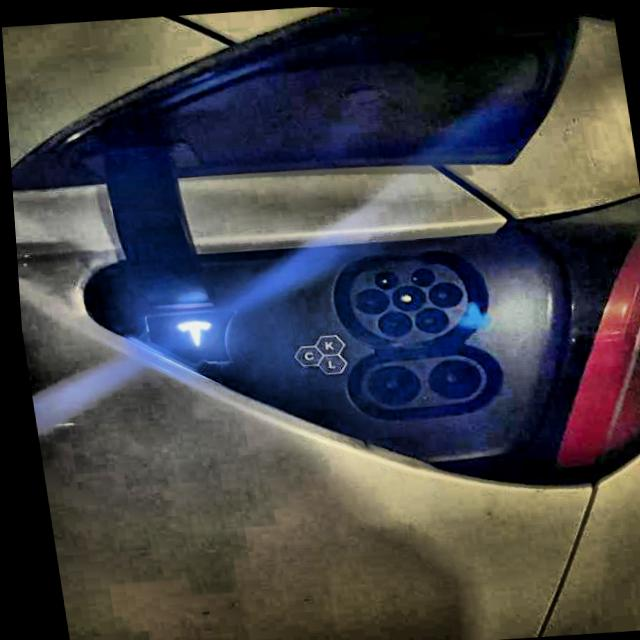inlet: (345, 261, 463, 340)
inlet-above-left: (370, 270, 394, 287)
inlet-above-right: (407, 265, 431, 284)
inlet-below-left: (373, 308, 407, 335)
inlet-below-right: (409, 305, 444, 331)
inlet-center: (388, 284, 421, 310)
inlet-center-left: (351, 286, 386, 312)
inlet-center-right: (424, 279, 459, 305)
